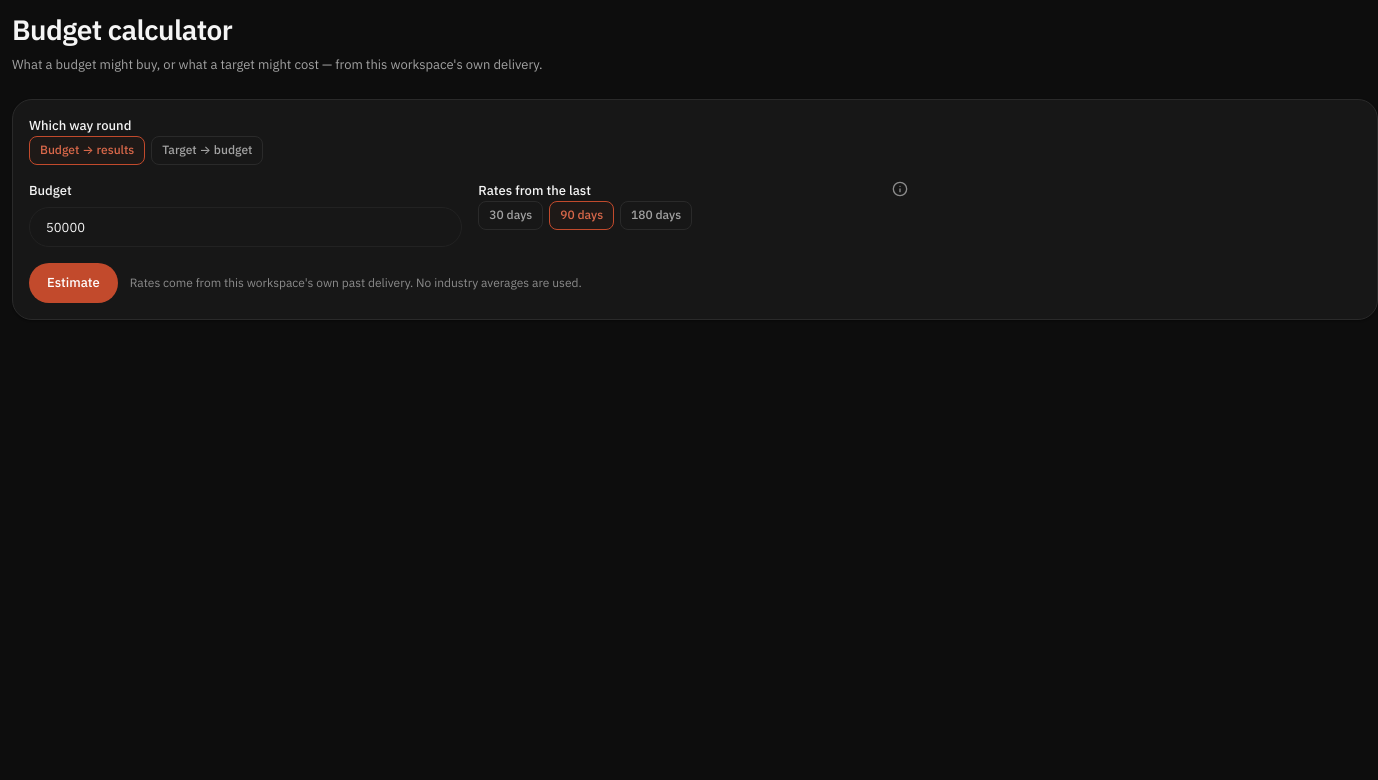
Test: BudgetCalculatorPage › works a budget back from a target
Click the button "Target → budget". click: click(207, 151)
box: x1=151 y1=136 x2=264 y2=165
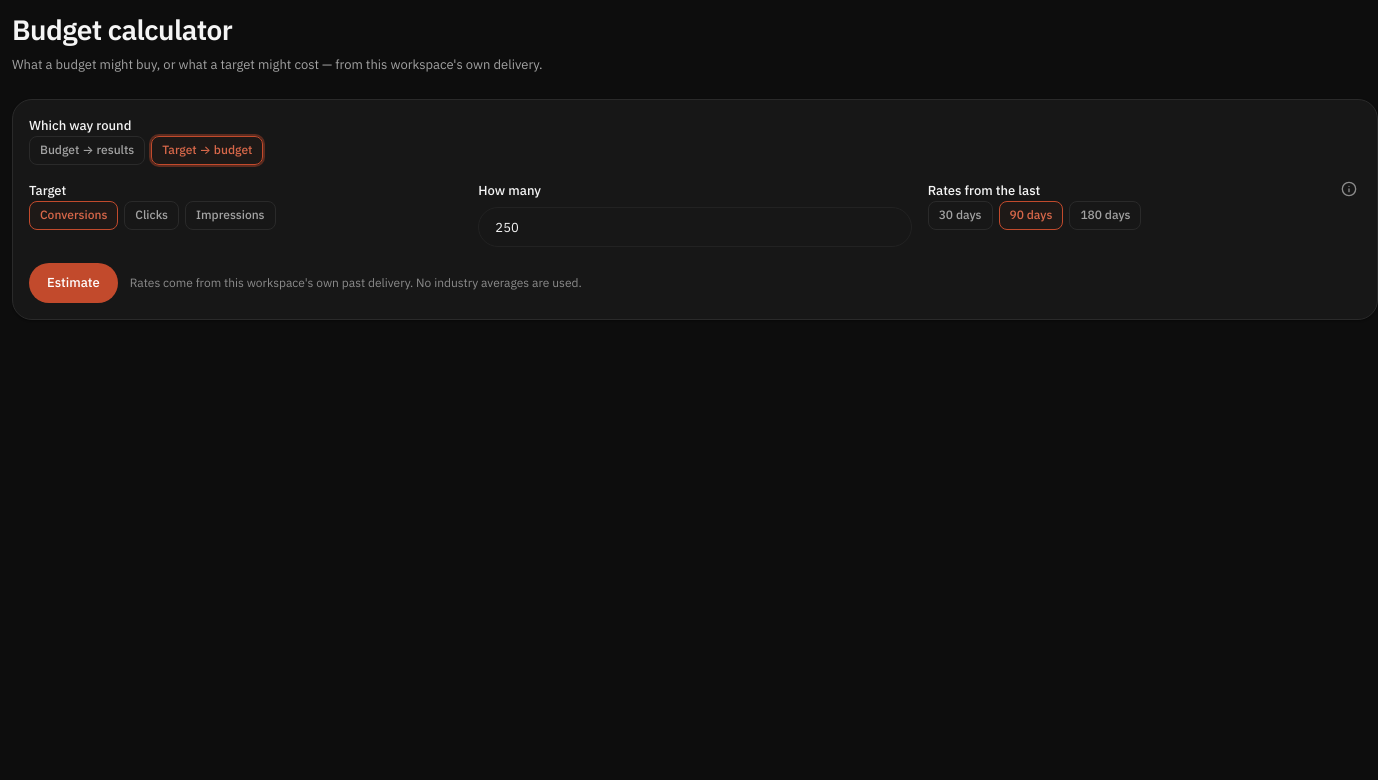
Click the button "Estimate". click: click(73, 283)
box: x1=29 y1=263 x2=118 y2=303
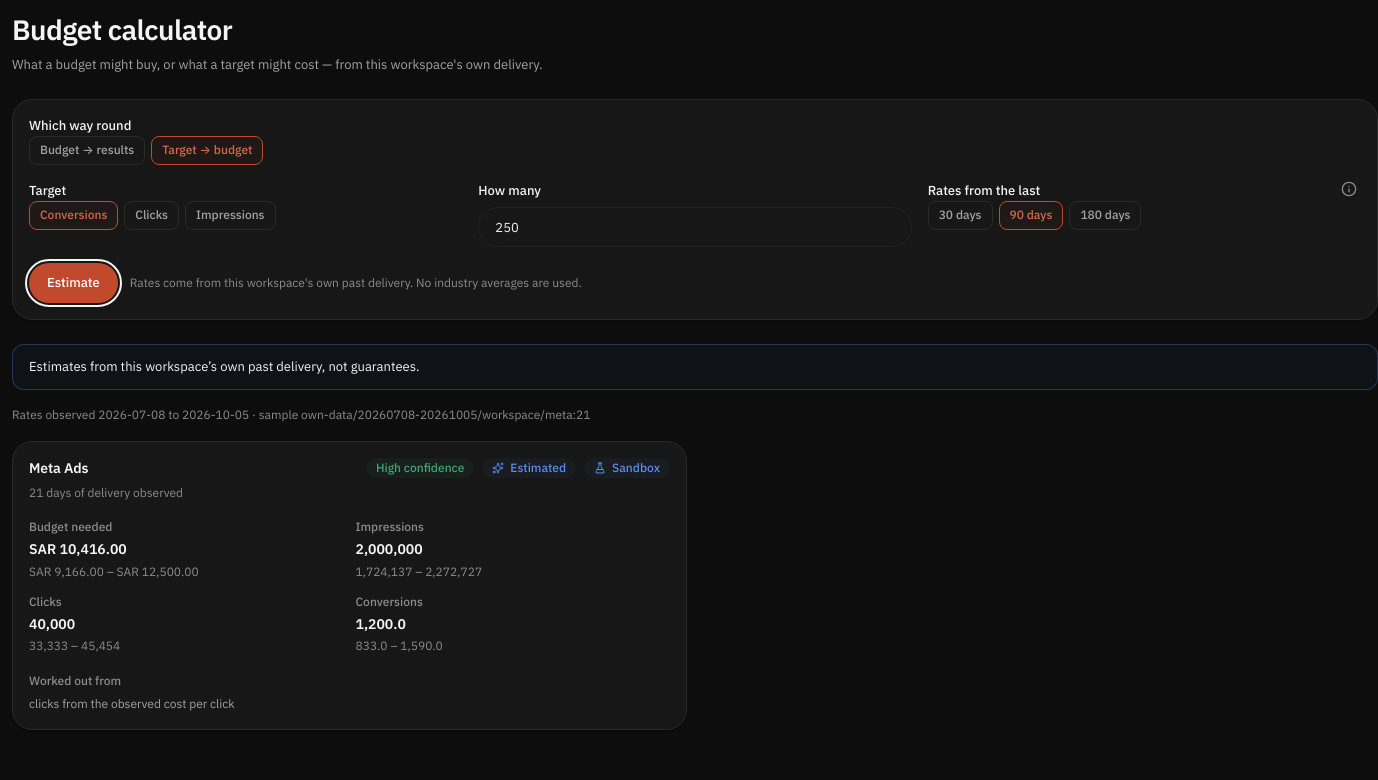
Result: the text "Budget needed" is shown at x1=29 y1=518 x2=112 y2=536
